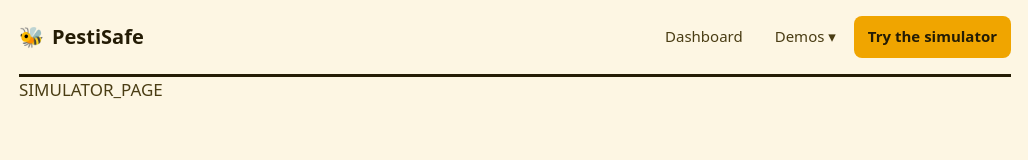
Scenario: NavBar › navigates back to the dashboard via the brand link
The image size is (1028, 160).
Click the link "🐝 PestiSafe". click: (81, 37)
box: [19,24,144,50]
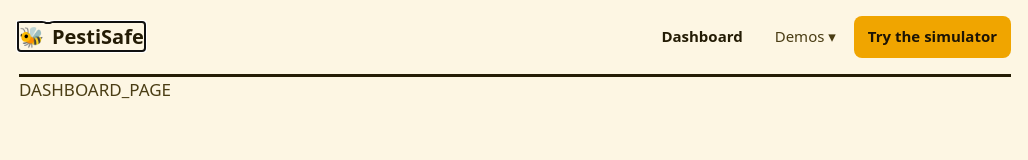
Expected: the text "DASHBOARD_PAGE" is shown, [19,78,171,100]
